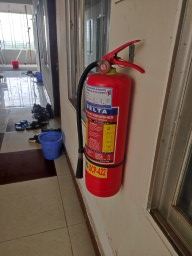fire_extinguisher: (29, 62, 149, 148)
